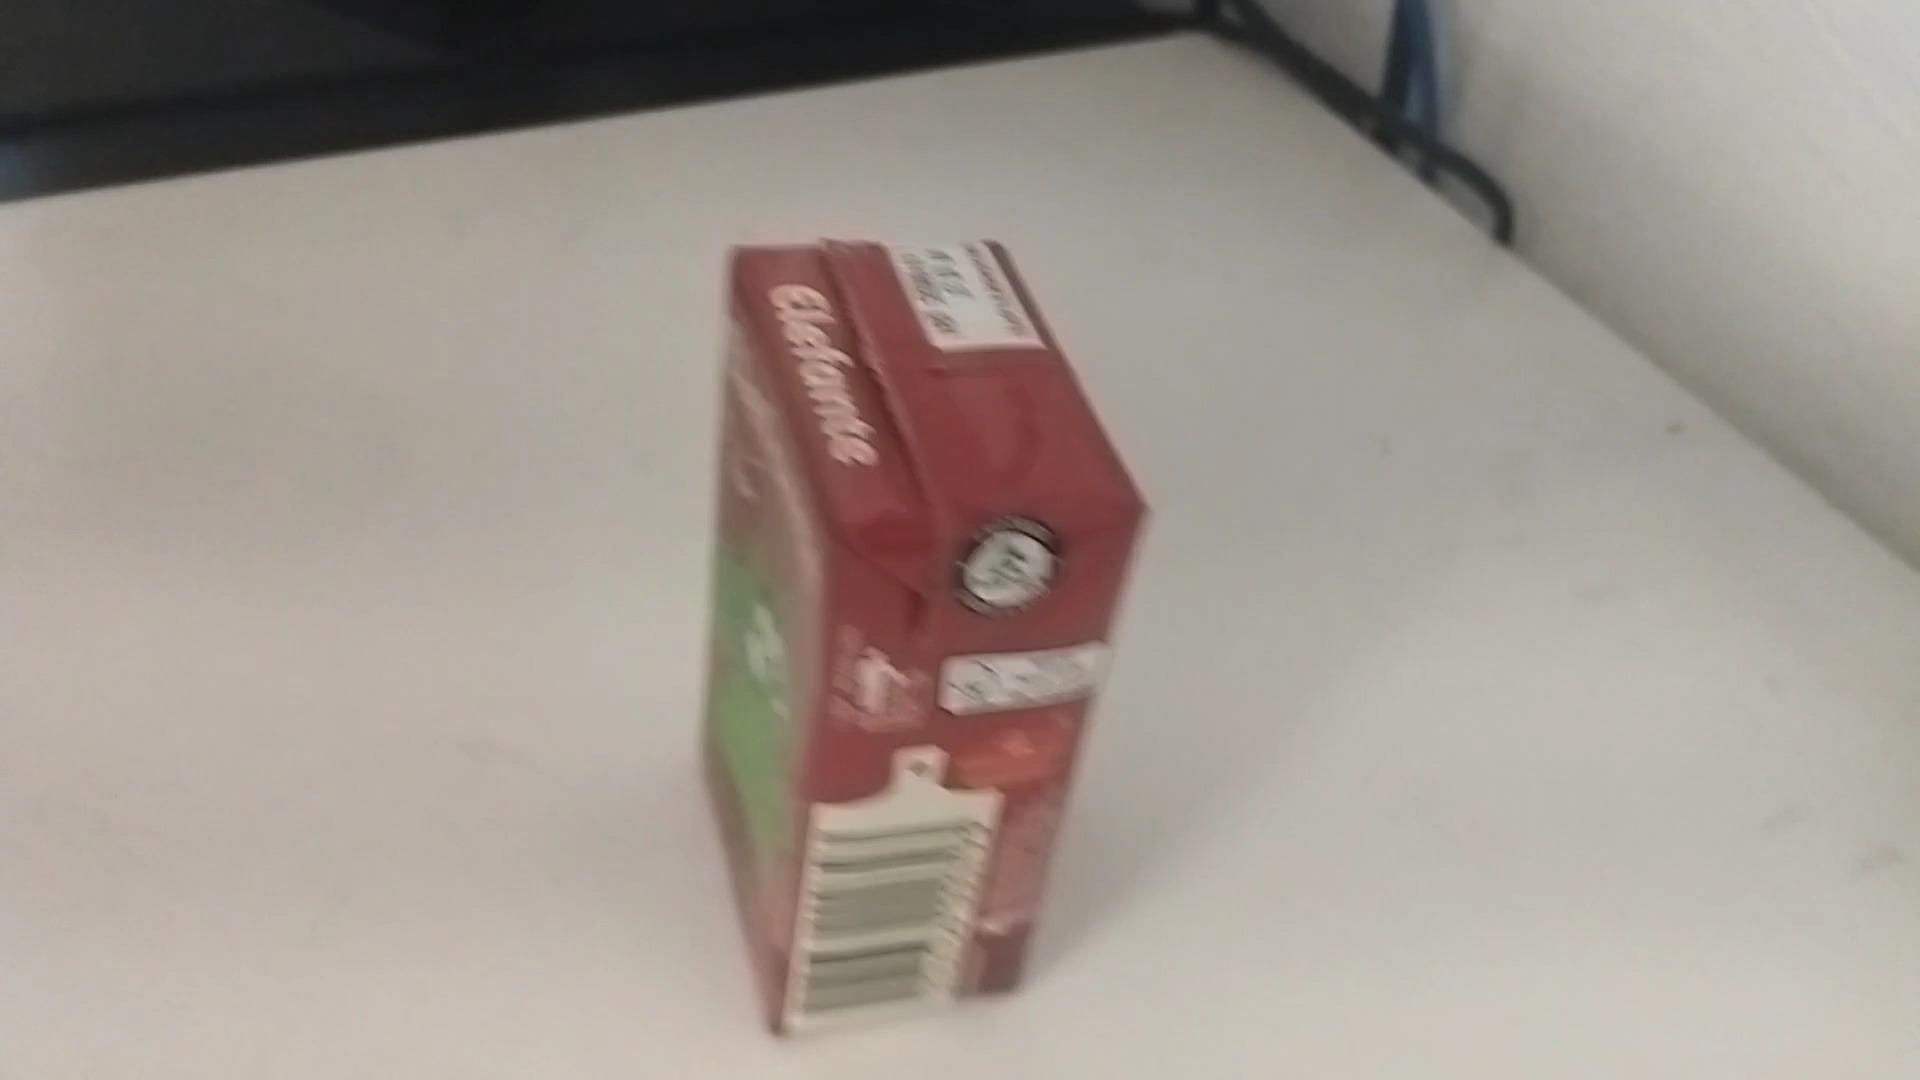tomate: (683, 84, 1154, 1021)
